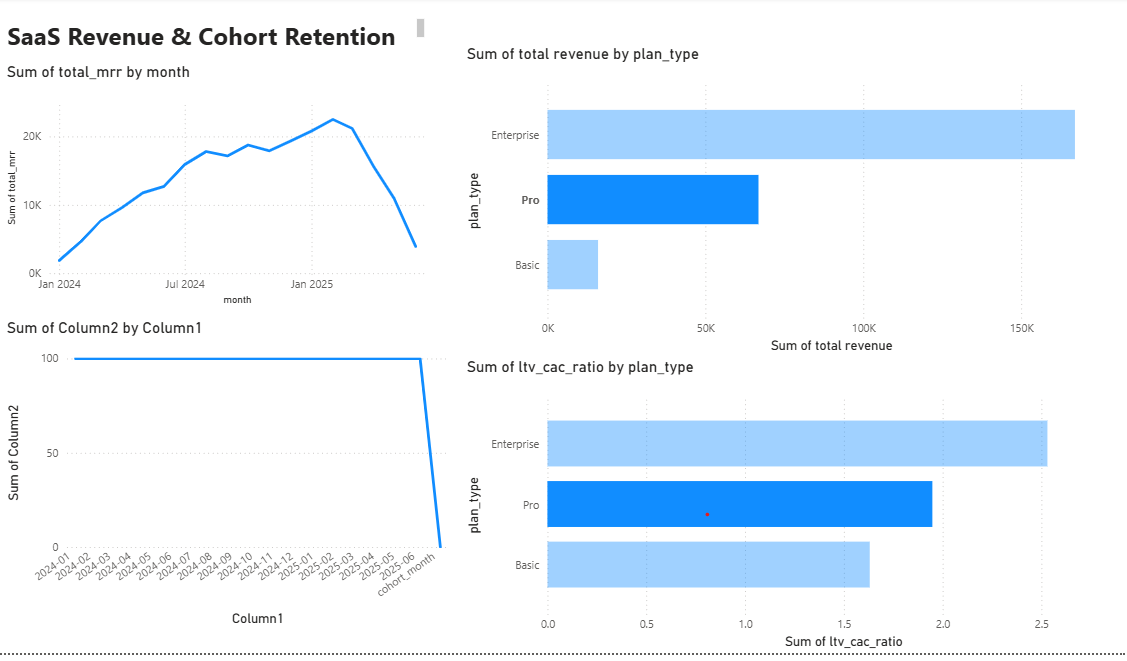

The dashboard page shown, as its layout file describes it:
{"tool":"powerbi","page":{"name":"Page 1","canvas":[1280,720],"ordinal":0},"visuals":[{"type":"lineChart","fields":{"Y":["Sum(mrr_trend.total_mrr)"],"Category":["mrr_trend.month"]},"box":[17.8,71.4,483,271.7],"z":0},{"type":"lineChart","fields":{"Category":["retention_pct.Column1"],"Y":["Sum(retention_pct.Column2)"]},"box":[18,353,495,343],"z":1},{"type":"clusteredBarChart","fields":{"Category":["revenue_by_plan.plan_type"],"Y":["Sum(revenue_by_plan.total revenue)"]},"box":[522.8,52.1,736.9,343.1],"z":2},{"type":"clusteredBarChart","fields":{"Category":["ltv_cac.plan_type"],"Y":["Sum(ltv_cac.ltv_cac_ratio)"]},"box":[522.8,395.2,757.5,325.2],"z":3},{"type":"textbox","box":[17.8,19.2,467.9,42.5],"z":4}]}

Visuals, with their boxes on the page's 1280x720 design canvas (x1, y1, x2, y2). These are canvas units, not pixel positions in the 1127x661 screenshot, which may show the page scaled, cropped or inside an application window:
lineChart - Sum(mrr_trend.total_mrr) x mrr_trend.month: crop(18, 71, 501, 343)
lineChart - retention_pct.Column1 x Sum(retention_pct.Column2): crop(18, 353, 513, 696)
clusteredBarChart - revenue_by_plan.plan_type x Sum(revenue_by_plan.total revenue): crop(523, 52, 1260, 395)
clusteredBarChart - ltv_cac.plan_type x Sum(ltv_cac.ltv_cac_ratio): crop(523, 395, 1280, 720)
textbox: crop(18, 19, 486, 62)
